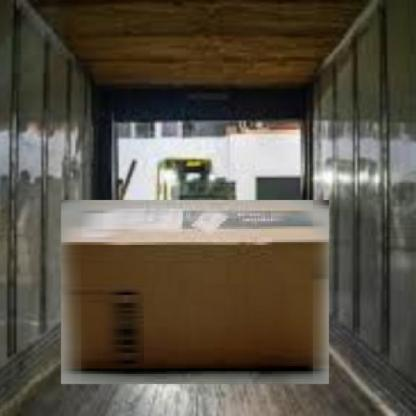box: (57, 198, 334, 388)
